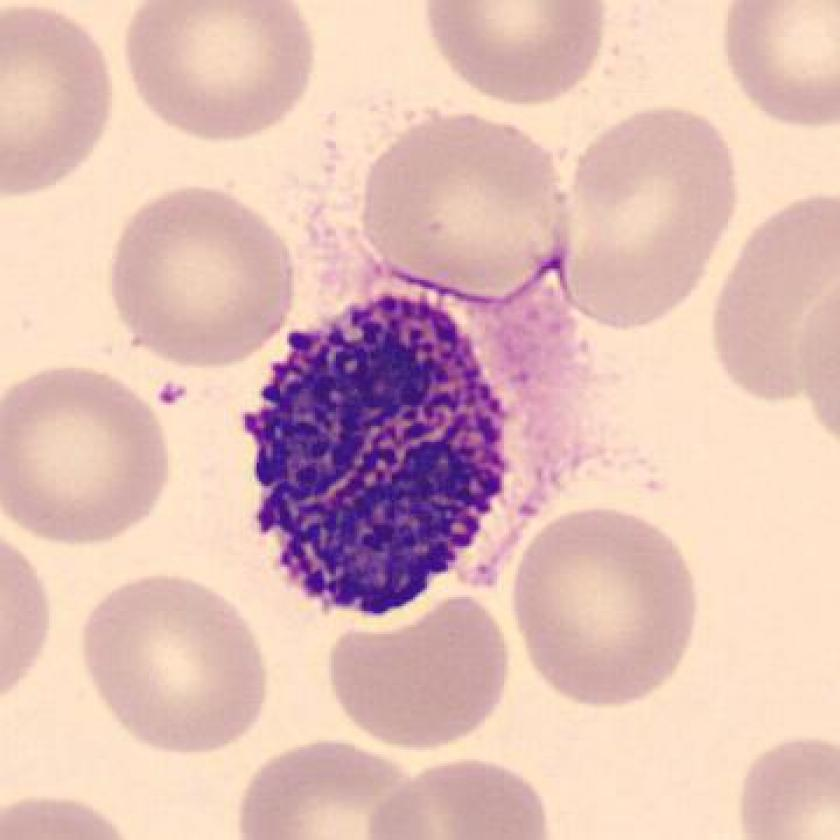basophil: (248, 281, 510, 619)
